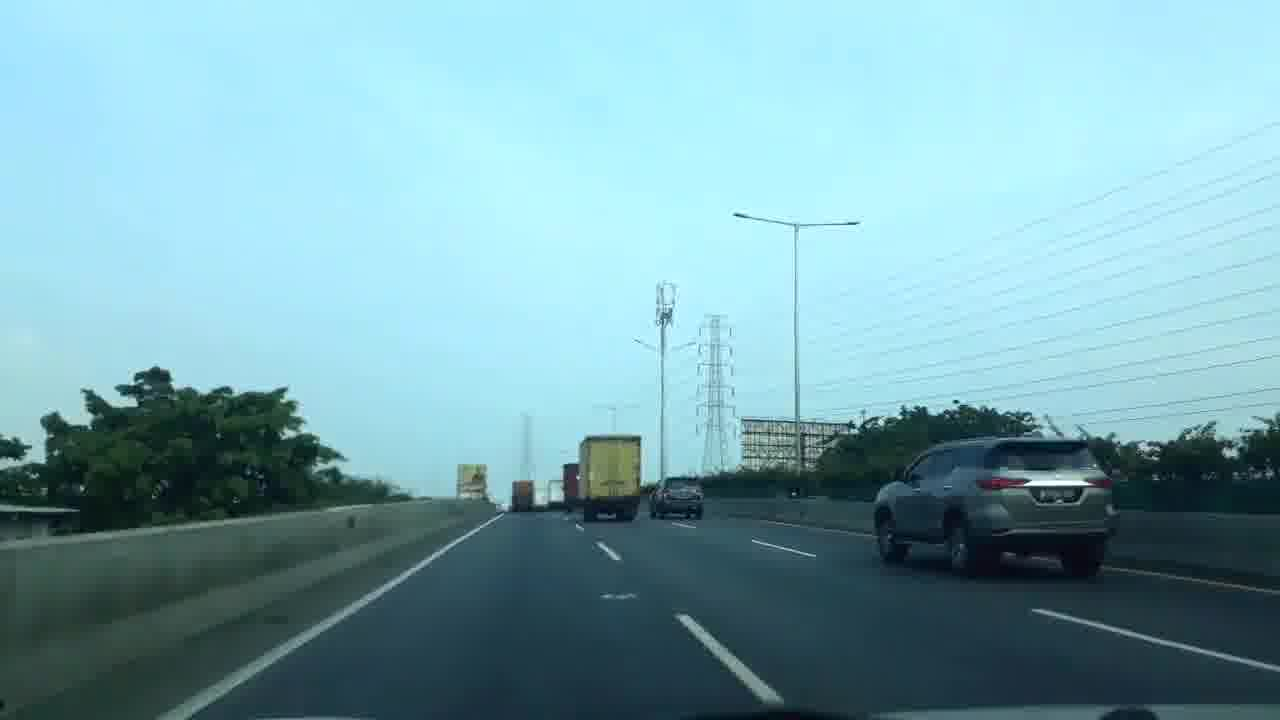plate_positive: (1038, 488, 1078, 502)
